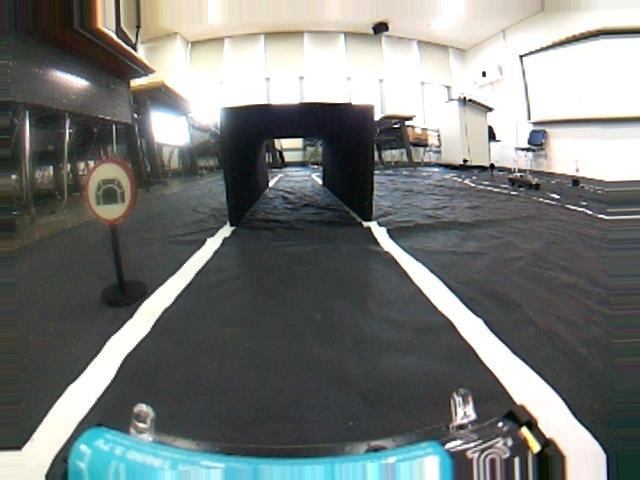sign_tunnel: (85, 161, 135, 224)
straight: (0, 218, 630, 480)
